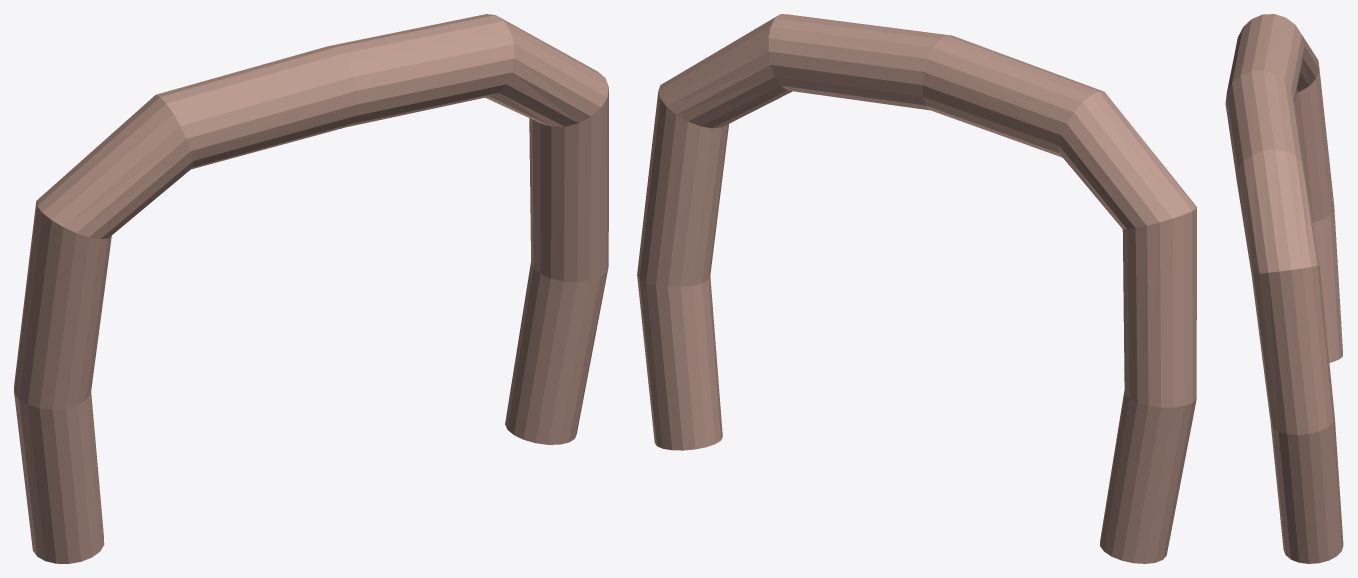
Rendered from colon.glb.
The picture shows the model from 3 angles, left to right: view 1: azimuth 30°, elevation 25°; view 2: azimuth 150°, elevation 25°; view 3: azimuth 270°, elevation 25°; orthographic projection. The views are drawn at different scales.
Visible parts, largest first — view 1: colon; view 2: colon; view 3: colon.
Boxes of the visible parts, x1,y1,x2,y2 form: colon: (14,14,608,563); colon: (637,14,1196,563); colon: (1225,14,1343,563).
Bounding box in the file's own units: 0.2598 × 0.1981 × 0.0549.
